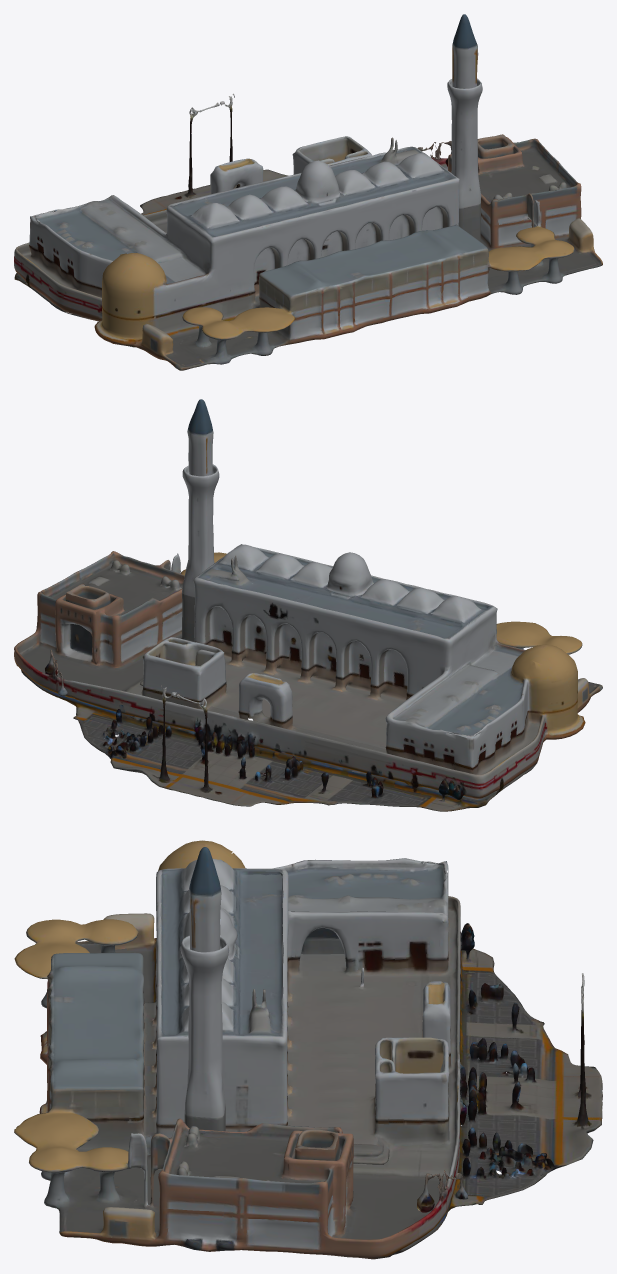
Rendered from masjid-ali-bin-abi-talib.glb.
The picture shows the model from 3 angles, top to bottom: view 1: azimuth 30°, elevation 25°; view 2: azimuth 150°, elevation 25°; view 3: azimuth 270°, elevation 25°; orthographic projection. The views are drawn at different scales.
Parts seen in each view (by area): view 1: tripo_node_56f7a04e; view 2: tripo_node_56f7a04e; view 3: tripo_node_56f7a04e.
Boxes of the visible parts, left/top/right/bottom form: tripo_node_56f7a04e: left=14, top=14, right=602, bottom=370; tripo_node_56f7a04e: left=14, top=399, right=602, bottom=811; tripo_node_56f7a04e: left=14, top=840, right=602, bottom=1259.
Bounding box in the file's own units: 97.83 × 49.01 × 73.41.
1 material, 1 textured.
